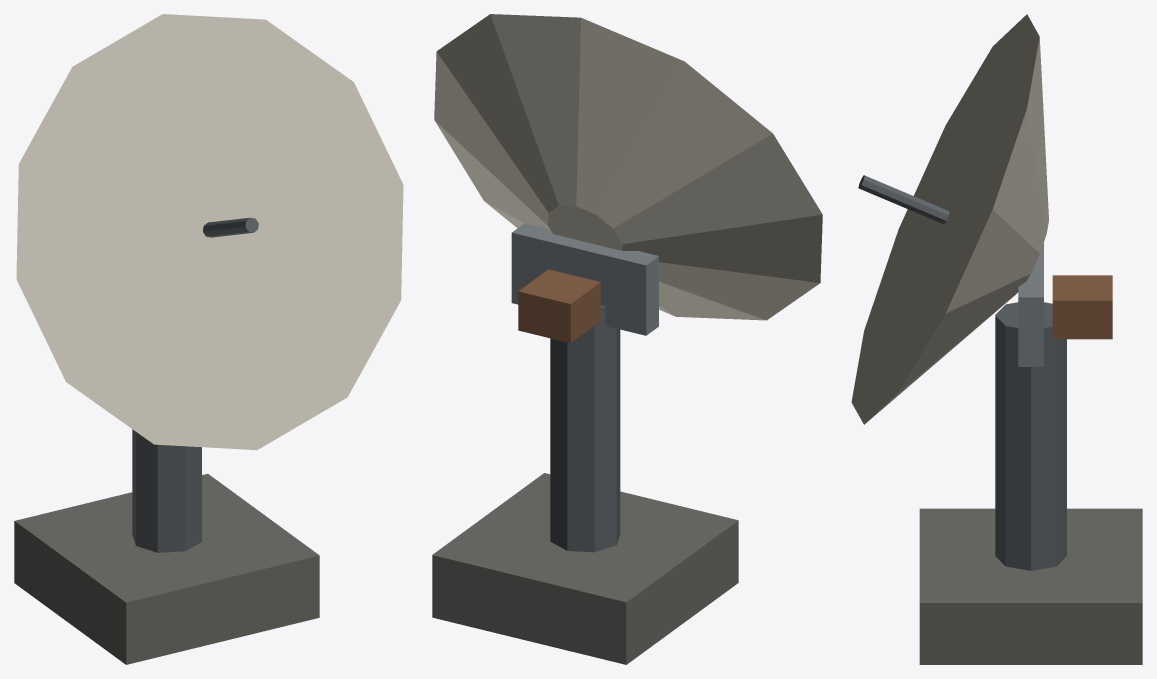
The model's file is radar_dish.glb.
3 renders of one model, left to right at view 1: azimuth 30°, elevation 25°; view 2: azimuth 150°, elevation 25°; view 3: azimuth 270°, elevation 25°, orthographic.
Visible parts, largest first — view 1: dish, base, column, feed; view 2: dish, base, column, yoke, motor; view 3: dish, base, column, motor, yoke, feed.
Part boxes in pixels (bbox=[...]): dish: bbox=[16, 14, 403, 450]; base: bbox=[14, 473, 319, 664]; column: bbox=[132, 429, 201, 552]; feed: bbox=[203, 217, 258, 237]; dish: bbox=[434, 14, 822, 320]; base: bbox=[432, 473, 738, 664]; column: bbox=[550, 305, 620, 552]; yoke: bbox=[511, 223, 658, 335]; motor: bbox=[518, 269, 600, 343]; dish: bbox=[851, 14, 1048, 424]; base: bbox=[919, 508, 1142, 664]; column: bbox=[995, 302, 1066, 570]; motor: bbox=[1052, 275, 1112, 339]; yoke: bbox=[1018, 243, 1043, 366]; feed: bbox=[858, 175, 949, 224].
Bounding box in the file's own units: 5.2 × 7.49 × 3.4.
